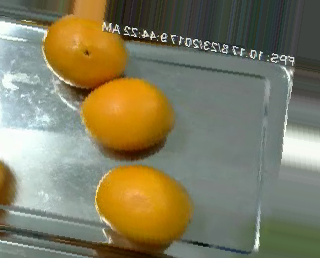Orange: (94, 164, 193, 243), (79, 77, 176, 149), (43, 14, 129, 88)
